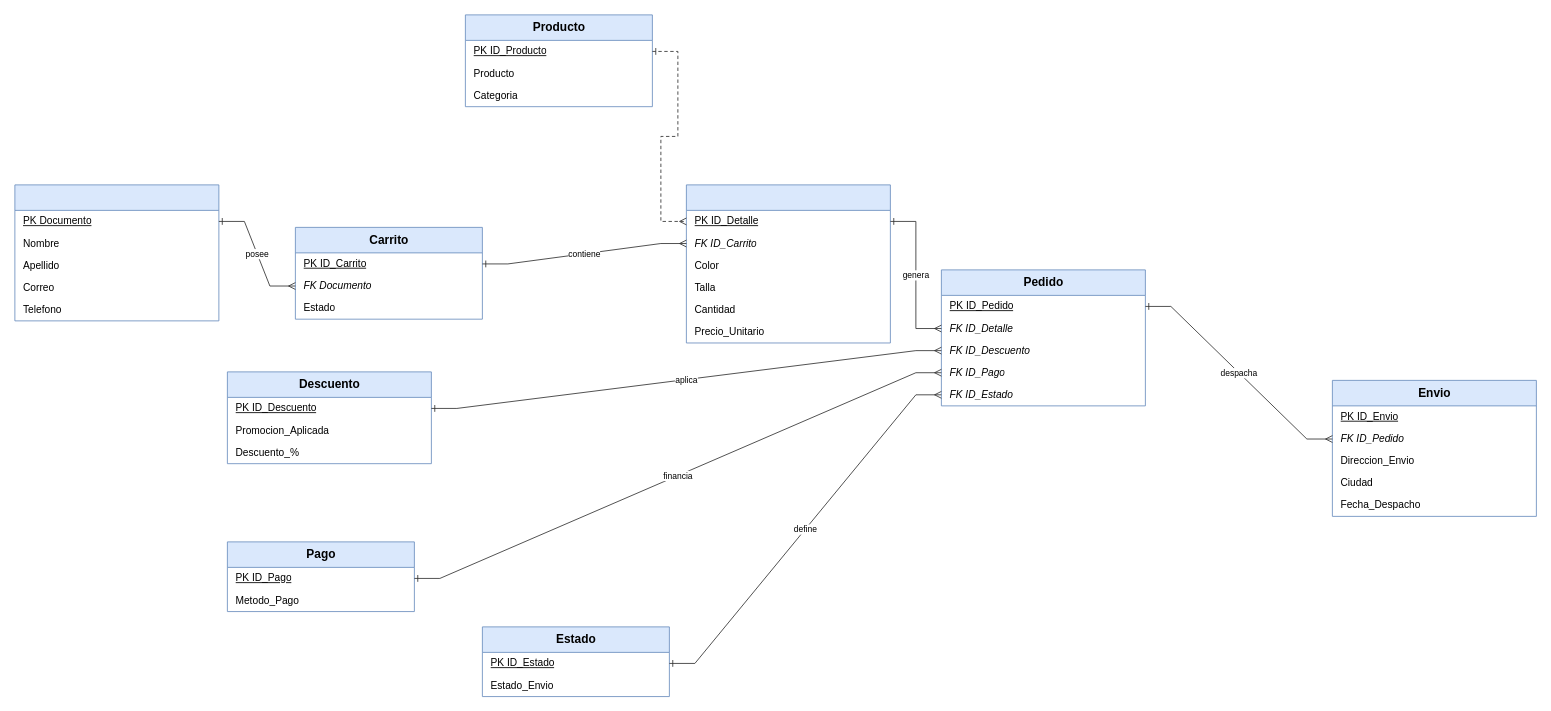
The diagram is 1551 pixels wide and 711 high, and some of its shapes have lost their labels. The box of each missing label's shape, as (x1, y1, x2, y2) in pixels:
Cliente: (14, 184, 219, 321)
Detalle_Carrito: (686, 184, 890, 343)
